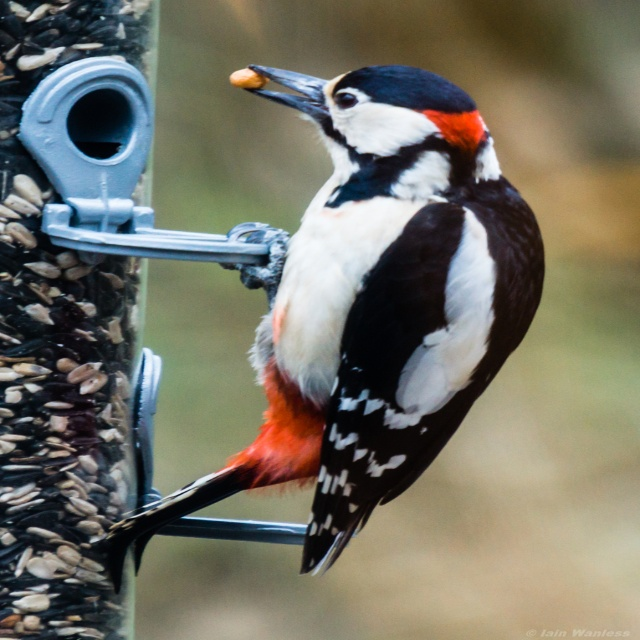Woodpecker: (88, 63, 547, 595)
